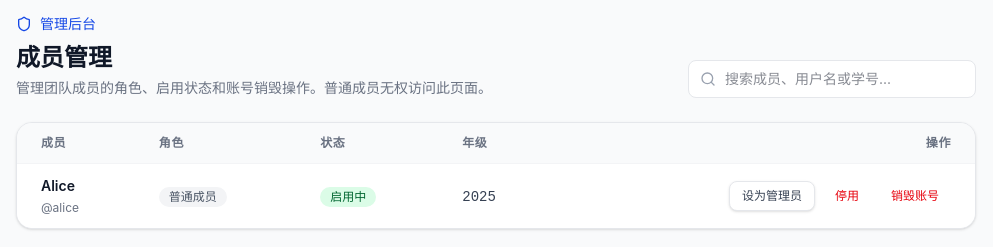
Test case: AdminMembersPage › updates a member role from the action buttons
This screenshot has width=993, height=247.
Click the button "设为管理员" at (772, 196), box [729, 181, 815, 211]
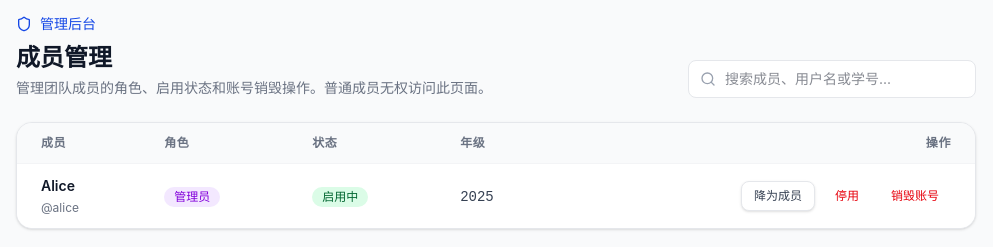
Expected: the text "管理员" is shown, [164, 186, 220, 206]
